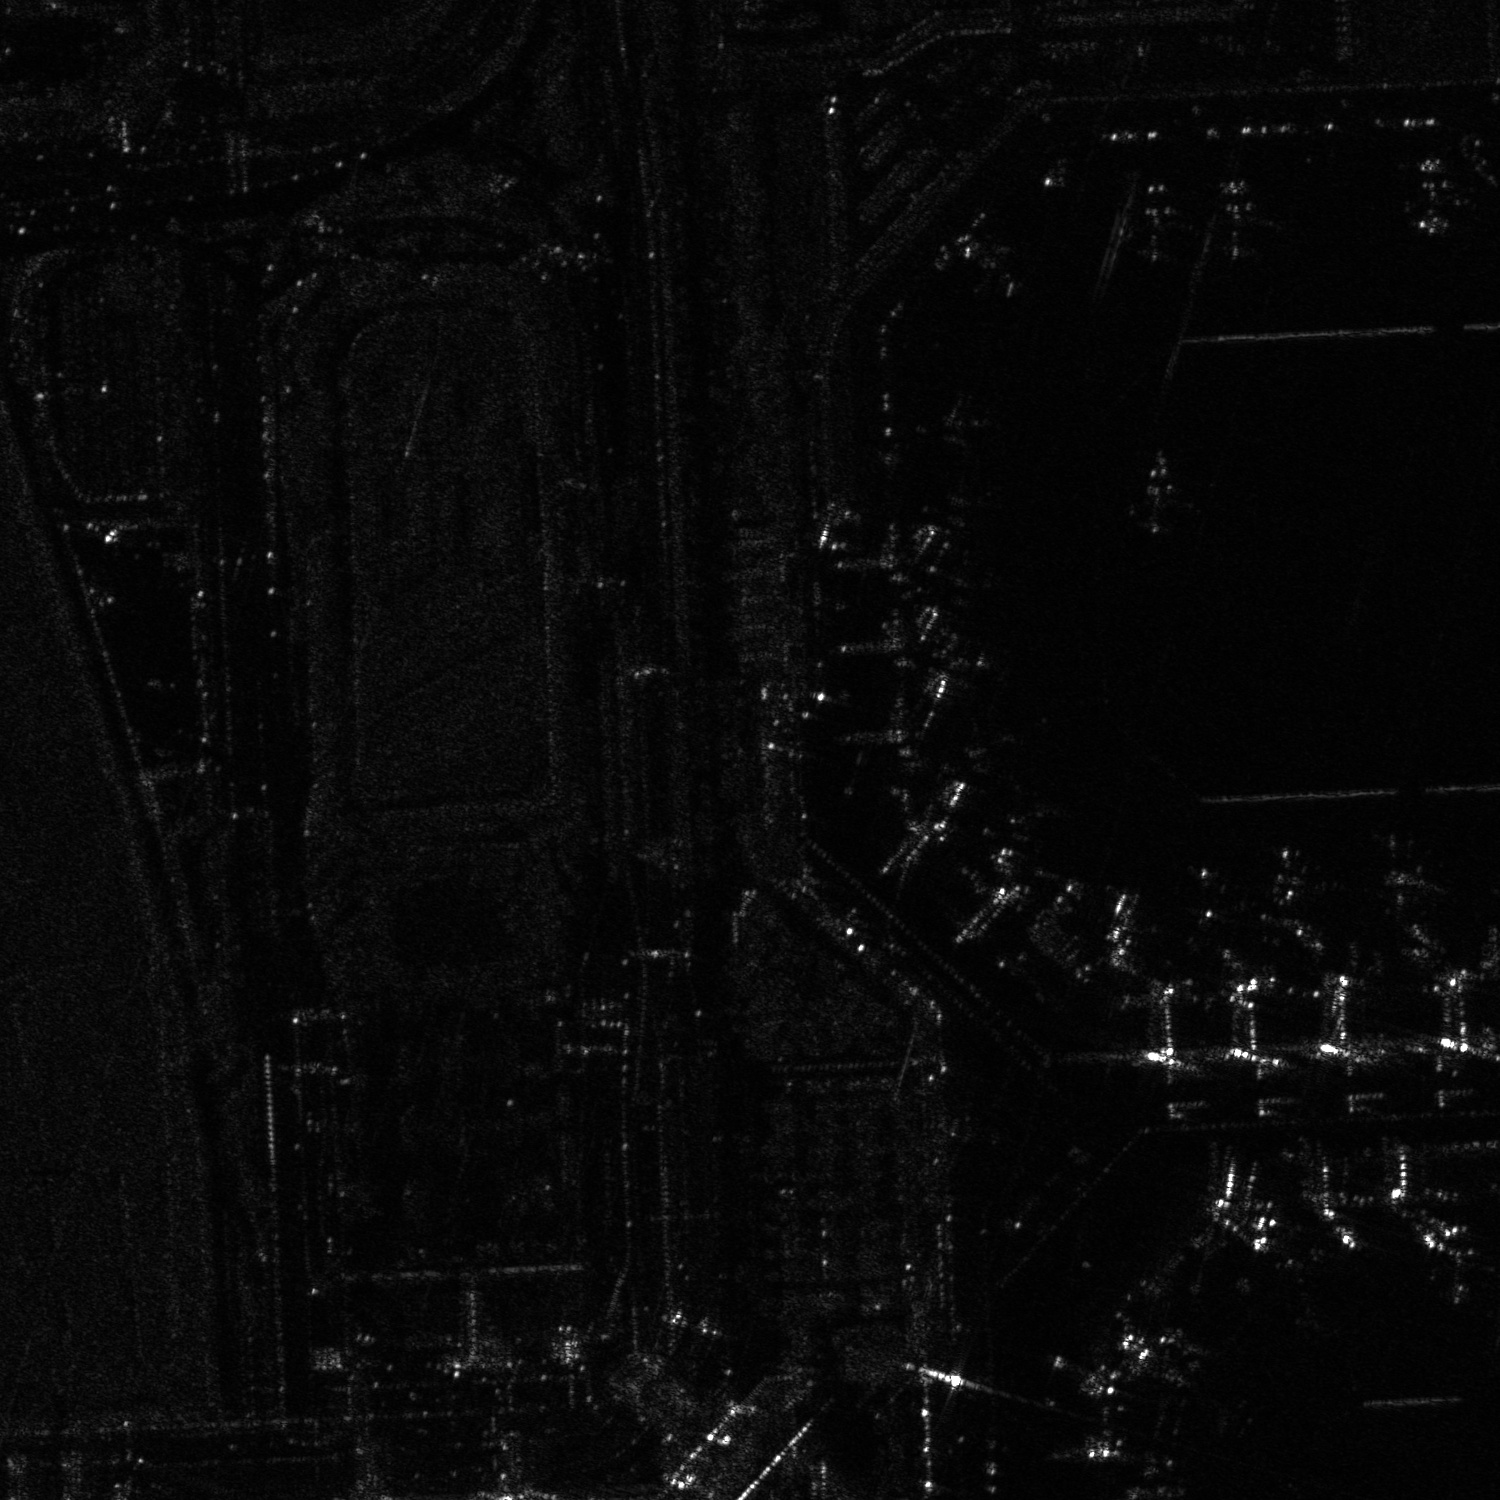A220: (1184, 864, 1251, 963), (909, 394, 997, 452)
A320/321: (1372, 841, 1455, 918)
Boeing737: (1109, 181, 1194, 266), (1198, 179, 1282, 262)
Boeing787: (1423, 1227, 1496, 1312)
other: (1265, 848, 1350, 960), (1126, 451, 1195, 538), (1400, 157, 1474, 238)
